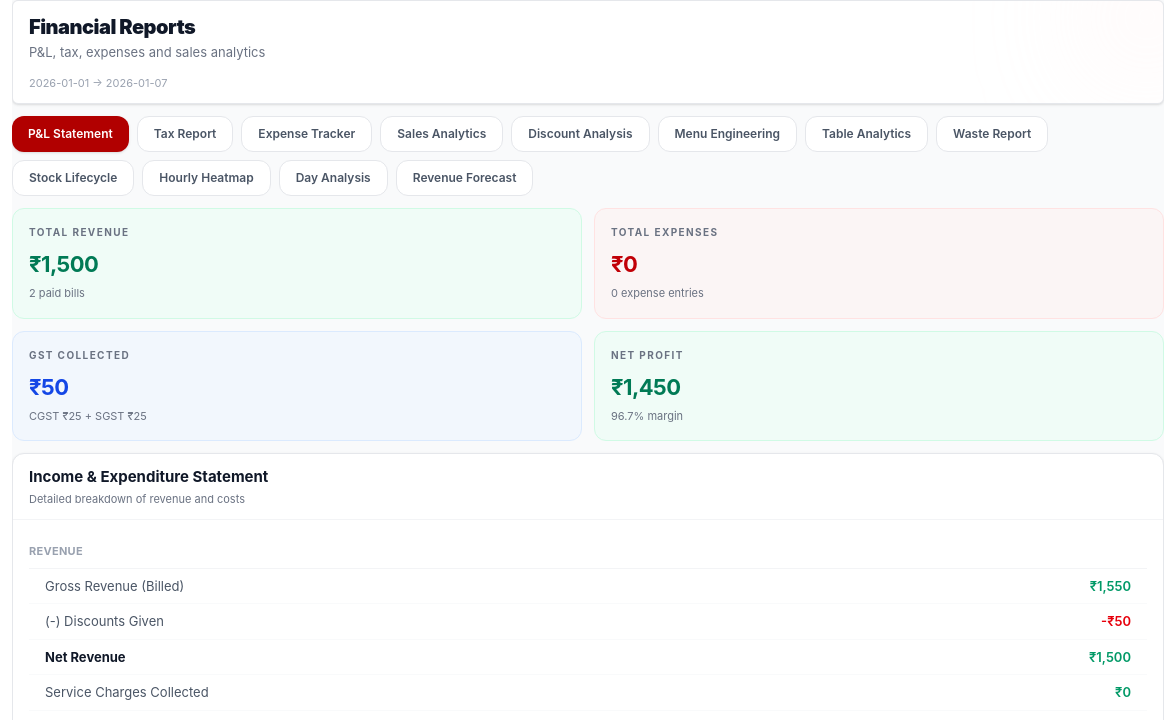
it: Reports page — characterisation › renders the Waste Report tab's own content
Click the button "Waste Report": (992, 134) [936,116,1048,152]
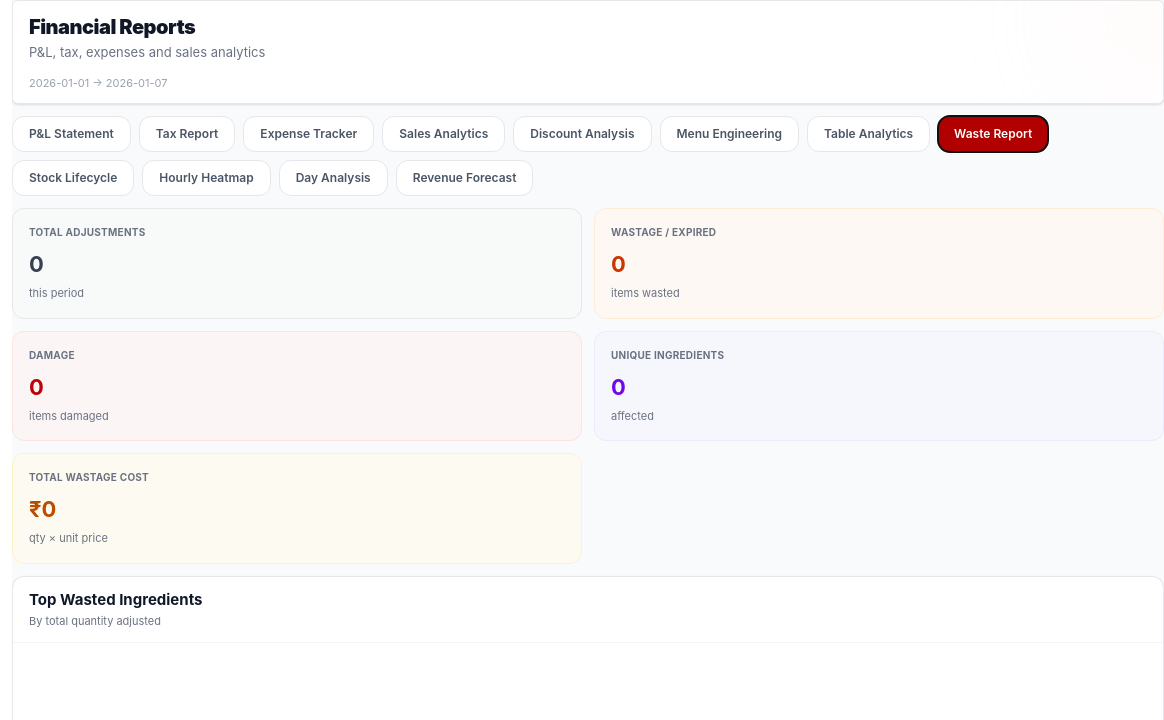
Expected: the text "Total Wastage Cost" is shown, [29,471,149,483]
